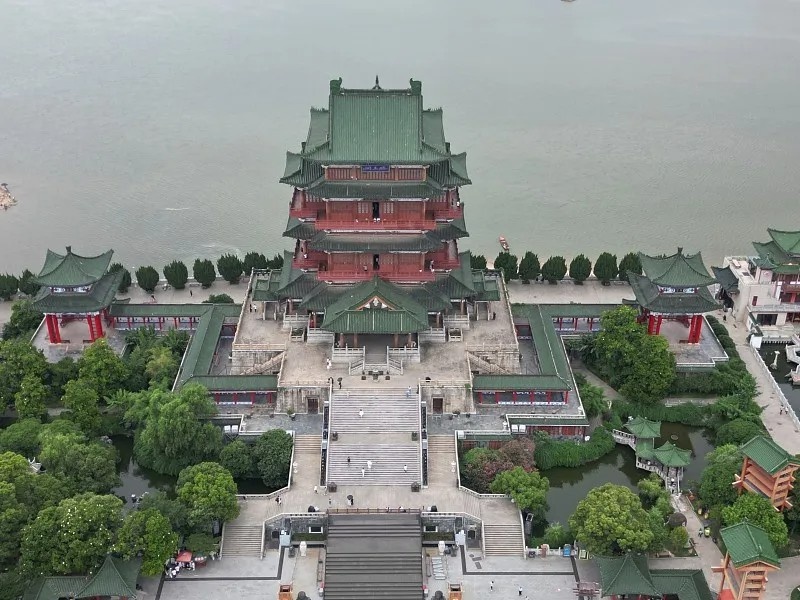Teng: (252, 76, 500, 354)
